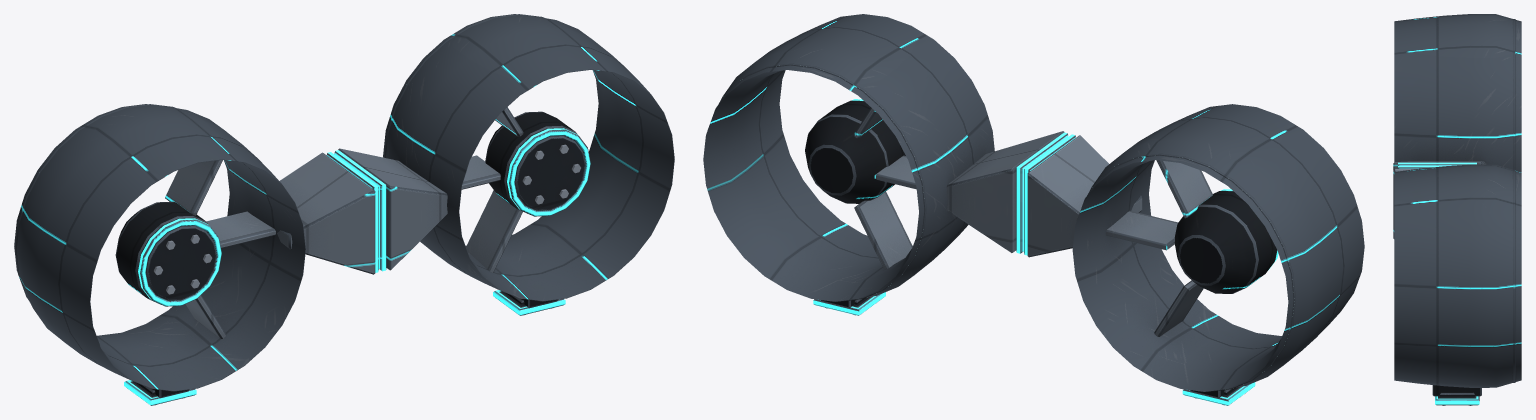
Rendered from ala_anular_t3.fbx.
3 renders of one model, left to right at view 1: azimuth 30°, elevation 25°; view 2: azimuth 150°, elevation 25°; view 3: azimuth 270°, elevation 25°, orthographic. The views are drawn at different scales.
Parts seen in each view (by area): view 1: ala_anular_t3_izq, ala_anular_t3_der; view 2: ala_anular_t3_izq, ala_anular_t3_der; view 3: ala_anular_t3_der, ala_anular_t3_izq.
Part boxes in pixels (x1,y1,x2,y2): ala_anular_t3_izq: [14, 104, 378, 405]; ala_anular_t3_der: [334, 14, 674, 315]; ala_anular_t3_izq: [1024, 104, 1364, 405]; ala_anular_t3_der: [703, 14, 1068, 315]; ala_anular_t3_der: [1393, 164, 1521, 405]; ala_anular_t3_izq: [1393, 14, 1521, 171].
Bounding box in the file's own units: 11.71 × 4.99 × 2.59.
